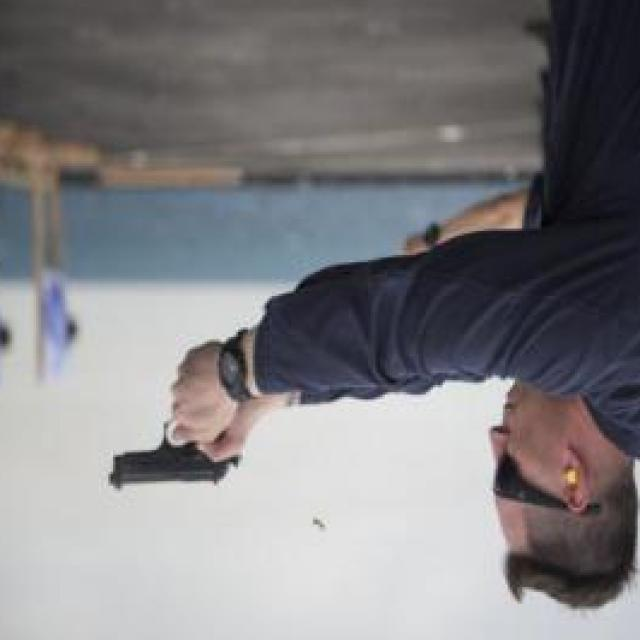pistol: (108, 412, 242, 494)
